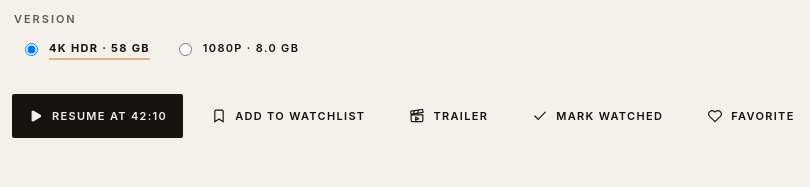
Test: TitleActions › says so when watched state cannot be saved
Click the button "Mark watched" at (598, 116), box [516,94,679,138]
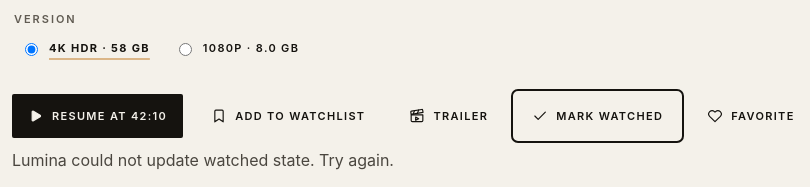
Result: the message reads "Lumina could not update watched state. Try again." at [12,150,394,170]
